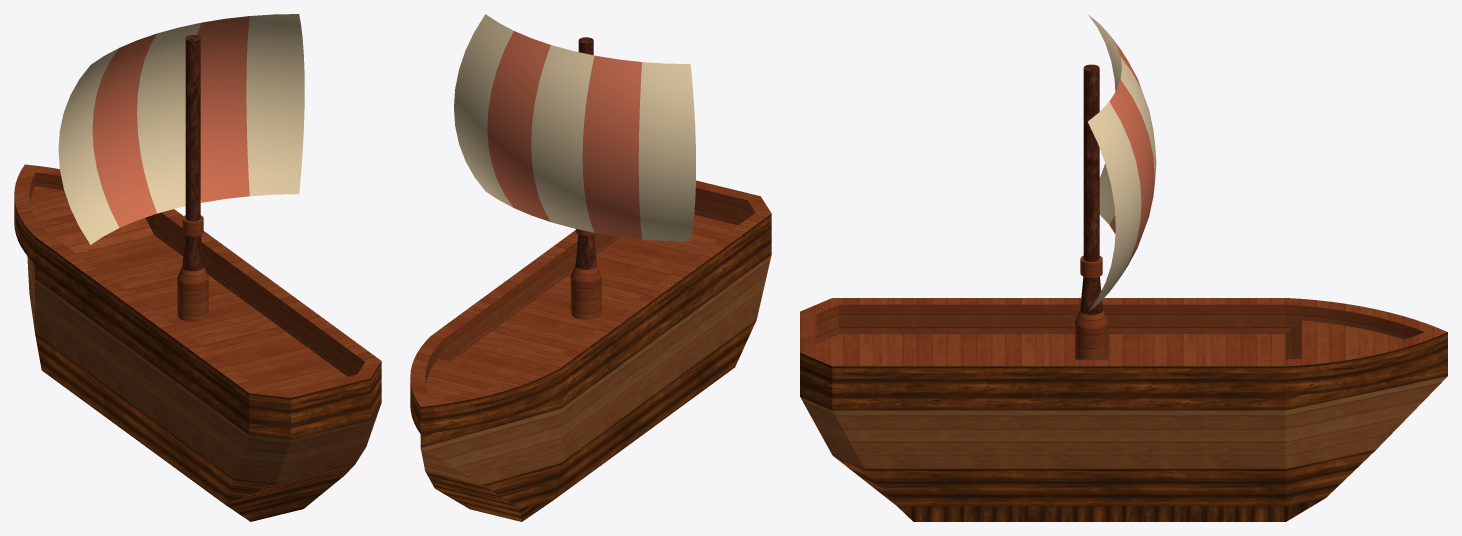
Rendered from ship.glb.
3 views of the same model, side by side, from view 1: azimuth 30°, elevation 25°; view 2: azimuth 150°, elevation 25°; view 3: azimuth 270°, elevation 25° (orthographic). The views are drawn at different scales.
Parts seen in each view (by area): view 1: mergedBlocks(Clone); view 2: mergedBlocks(Clone); view 3: mergedBlocks(Clone).
Part boxes in pixels (box(x1,y1,x2,y2)): mergedBlocks(Clone): box(14, 14, 381, 521); mergedBlocks(Clone): box(410, 14, 771, 521); mergedBlocks(Clone): box(800, 14, 1447, 521).
Size of the model in its own units: 1.86 by 3 by 4.
6 materials, 4 textured.
